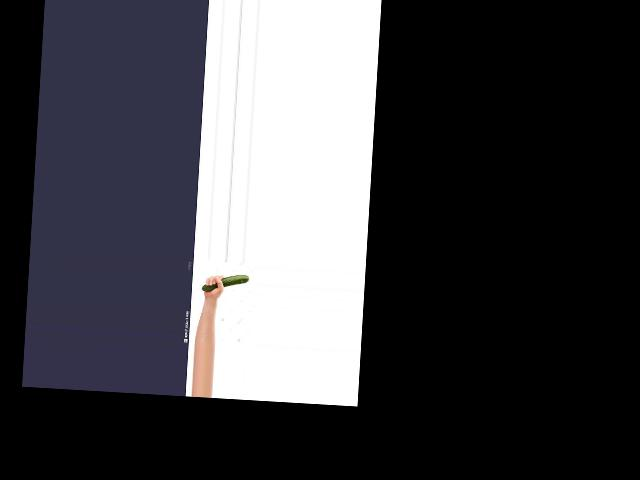cucumber: (201, 272, 248, 292)
